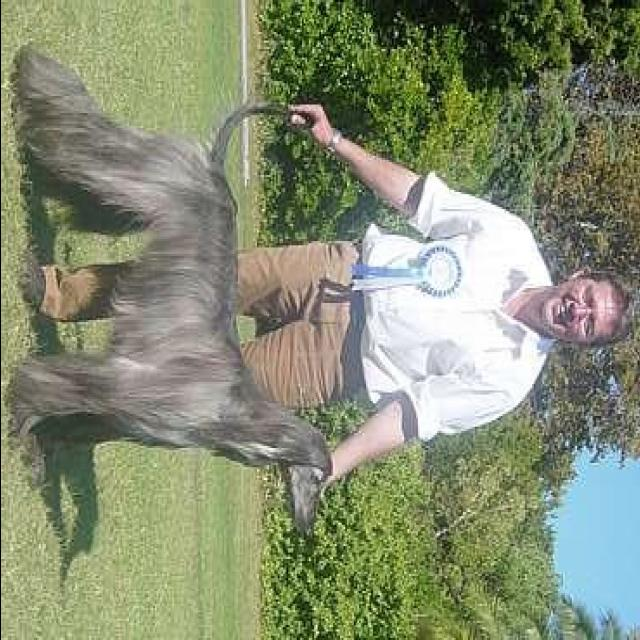afghan_hound: (10, 41, 334, 536)
